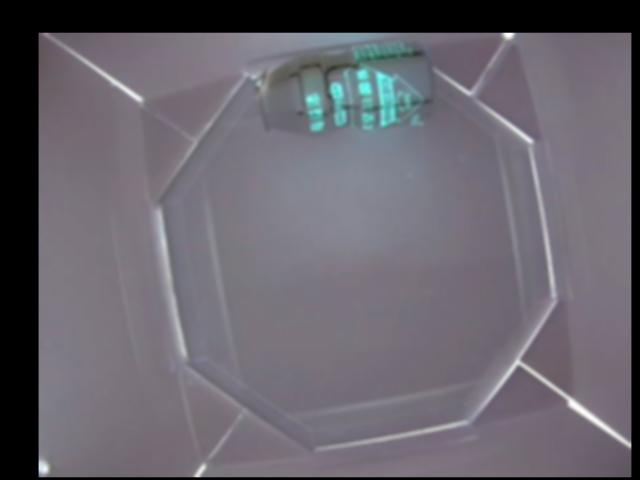Bottle: (253, 35, 433, 137)
